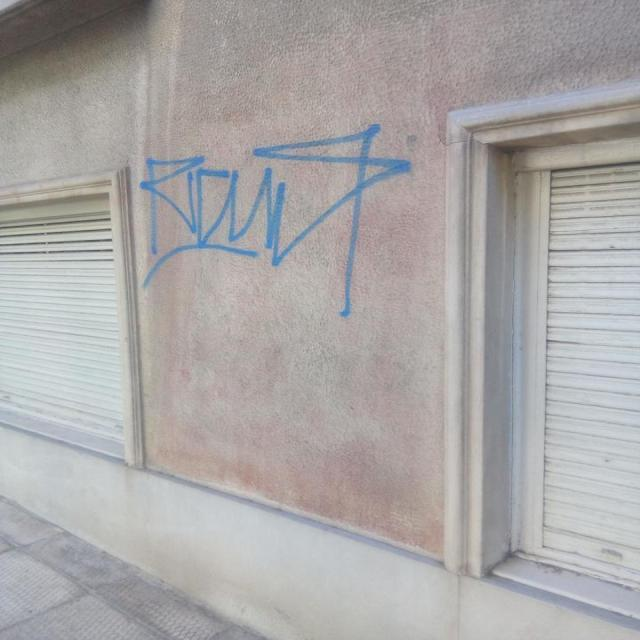nonspitting: (138, 120, 412, 315)
